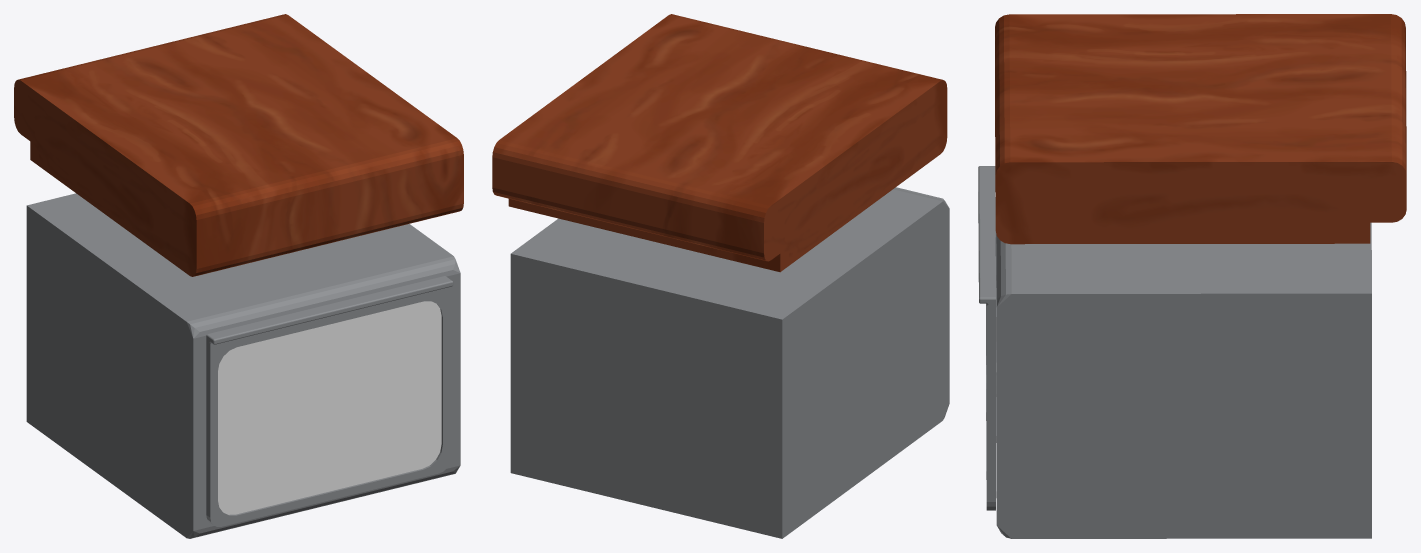
File: SM_Cabinet_Door.fbx
The picture shows the model from 3 angles, left to right: view 1: azimuth 30°, elevation 25°; view 2: azimuth 150°, elevation 25°; view 3: azimuth 270°, elevation 25°; orthographic projection. The views are drawn at different scales.
Parts seen in each view (by area): view 1: Mitte_SGCabinet_R.TOP.003, Mitte_SGCabinet_R.BOTTOM.004, Cabinet Door_roundGlass.001, Cabinet Door_roundGlass; view 2: Mitte_SGCabinet_R.BOTTOM.004, Mitte_SGCabinet_R.TOP.003; view 3: Mitte_SGCabinet_R.BOTTOM.004, Mitte_SGCabinet_R.TOP.003, Cabinet Door_roundGlass.
Boxes of the visible parts, x1,y1,x2,y2 form: Mitte_SGCabinet_R.TOP.003: [14, 14, 463, 276]; Mitte_SGCabinet_R.BOTTOM.004: [26, 193, 460, 538]; Cabinet Door_roundGlass.001: [218, 301, 441, 514]; Cabinet Door_roundGlass: [206, 276, 453, 526]; Mitte_SGCabinet_R.BOTTOM.004: [510, 188, 949, 538]; Mitte_SGCabinet_R.TOP.003: [492, 14, 947, 272]; Mitte_SGCabinet_R.BOTTOM.004: [995, 222, 1371, 538]; Mitte_SGCabinet_R.TOP.003: [995, 14, 1406, 244]; Cabinet Door_roundGlass: [978, 166, 995, 510].
Bounding box in the file's own units: 297 × 350 × 359.
